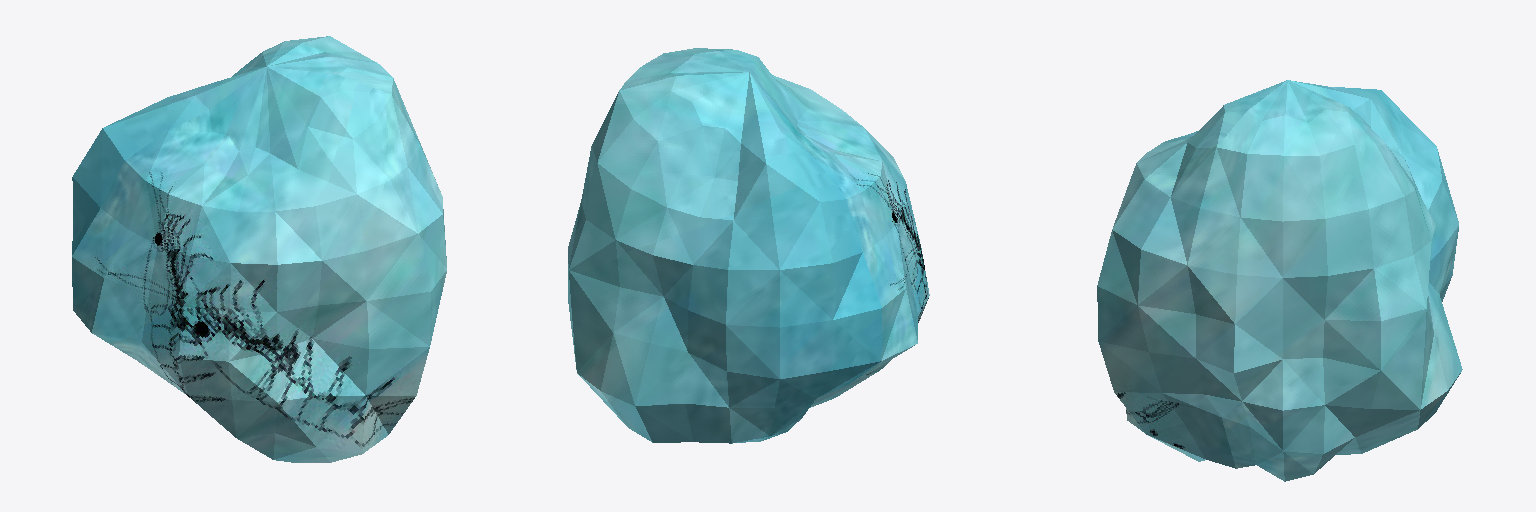
3 renders of one model, left to right at view 1: azimuth 30°, elevation 25°; view 2: azimuth 150°, elevation 25°; view 3: azimuth 270°, elevation 25°, orthographic.
Parts seen in each view (by area): view 1: Stone_1_LOD1; view 2: Stone_1_LOD1; view 3: Stone_1_LOD1.
Part boxes in pixels (left/top/right/bottom): Stone_1_LOD1: left=72, top=36, right=446, bottom=462; Stone_1_LOD1: left=568, top=48, right=929, bottom=443; Stone_1_LOD1: left=1097, top=80, right=1462, bottom=481.
Size of the model in its own units: 140 by 155 by 141.
Materials: 1 (1 with a texture image).